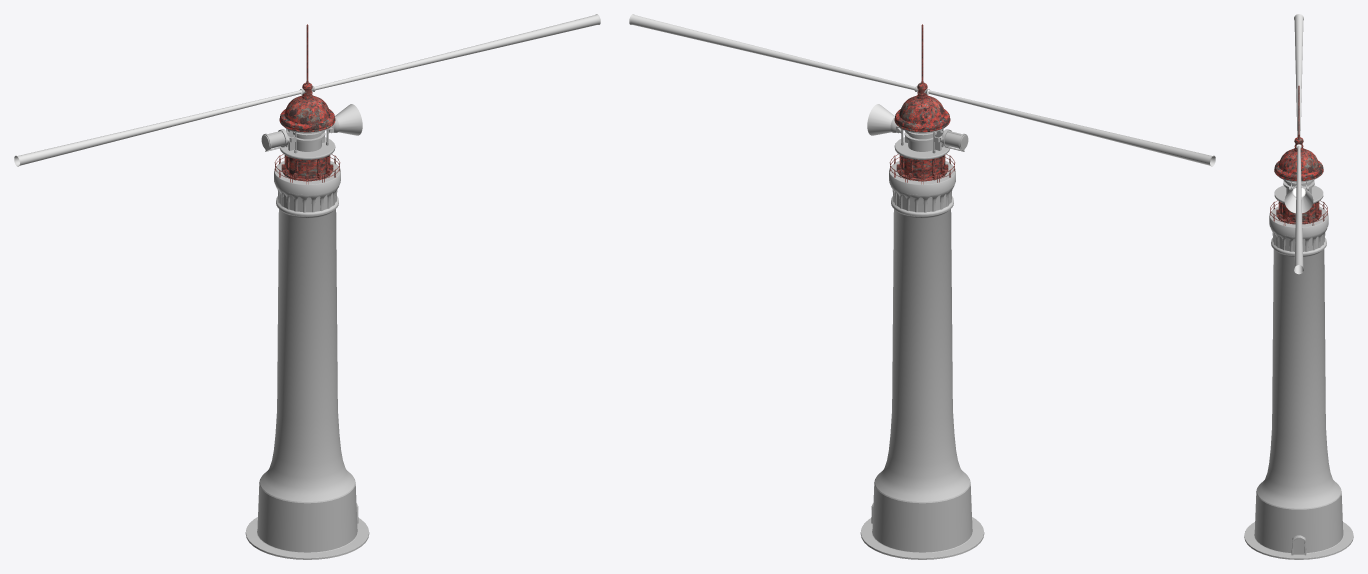
Rendered from BG_002_toudai_04_01.fbx.
3 renders of one model, left to right at view 1: azimuth 30°, elevation 25°; view 2: azimuth 150°, elevation 25°; view 3: azimuth 270°, elevation 25°, orthographic. The views are drawn at different scales.
Visible parts, largest first — view 1: BG_002_toudai_1a, BG_002_toudai_1b, BG_002_toudai_EF002, BG_002_toudai_EF001, BG_002_toudai_1c, BG_002_toudai_1d; view 2: BG_002_toudai_1a, BG_002_toudai_1b, BG_002_toudai_EF002, BG_002_toudai_EF001, BG_002_toudai_1c, BG_002_toudai_1d; view 3: BG_002_toudai_1a, BG_002_toudai_1b, BG_002_toudai_EF001, BG_002_toudai_EF002, BG_002_toudai_1c, BG_002_toudai_EF.
Boxes of the visible parts, <box> form: BG_002_toudai_1a: <box>245,161,369,559</box>; BG_002_toudai_1b: <box>274,24,340,184</box>; BG_002_toudai_EF002: <box>14,90,301,166</box>; BG_002_toudai_EF001: <box>314,14,600,90</box>; BG_002_toudai_1c: <box>280,127,358,523</box>; BG_002_toudai_1d: <box>261,126,333,153</box>; BG_002_toudai_1a: <box>860,161,984,559</box>; BG_002_toudai_1b: <box>889,24,955,184</box>; BG_002_toudai_EF002: <box>928,90,1215,166</box>; BG_002_toudai_EF001: <box>629,14,915,90</box>; BG_002_toudai_1c: <box>871,127,949,523</box>; BG_002_toudai_1d: <box>896,126,968,153</box>; BG_002_toudai_1a: <box>1244,206,1353,559</box>; BG_002_toudai_1b: <box>1270,85,1327,225</box>; BG_002_toudai_EF001: <box>1294,145,1303,274</box>; BG_002_toudai_EF002: <box>1294,14,1303,136</box>; BG_002_toudai_1c: <box>1274,176,1323,555</box>; BG_002_toudai_EF: <box>1284,187,1313,213</box>.
Size of the model in its own units: 3477 by 2914 by 641.
